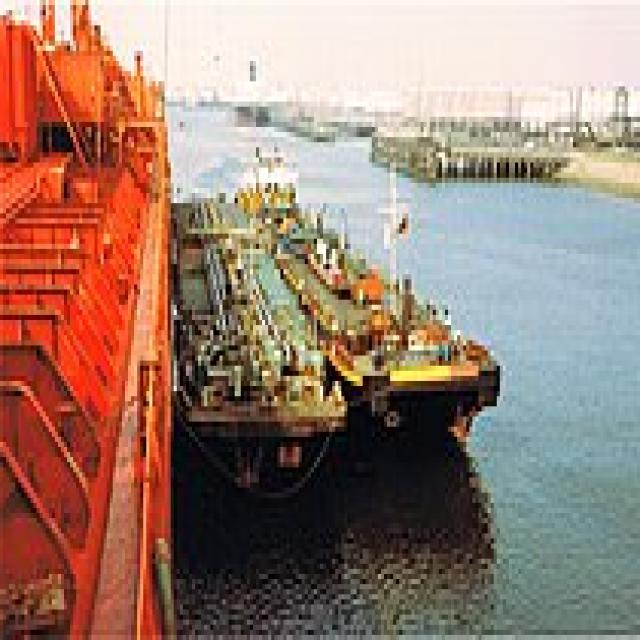Tanker: (235, 142, 503, 437)
